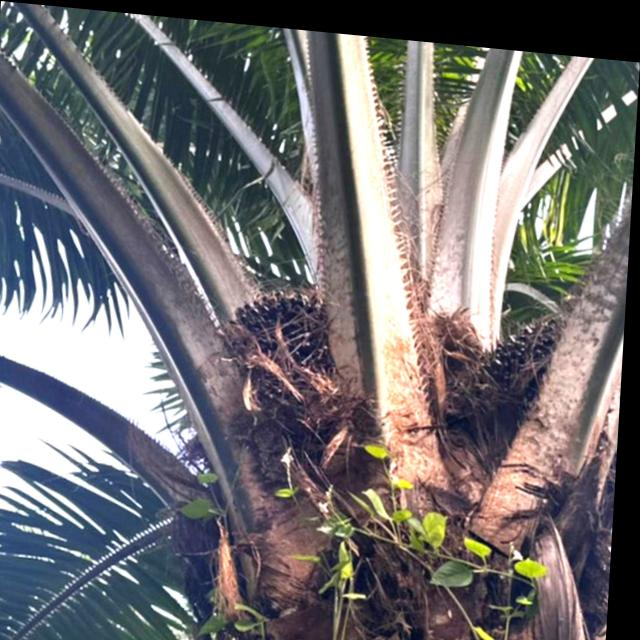almost: (217, 272, 350, 435)
